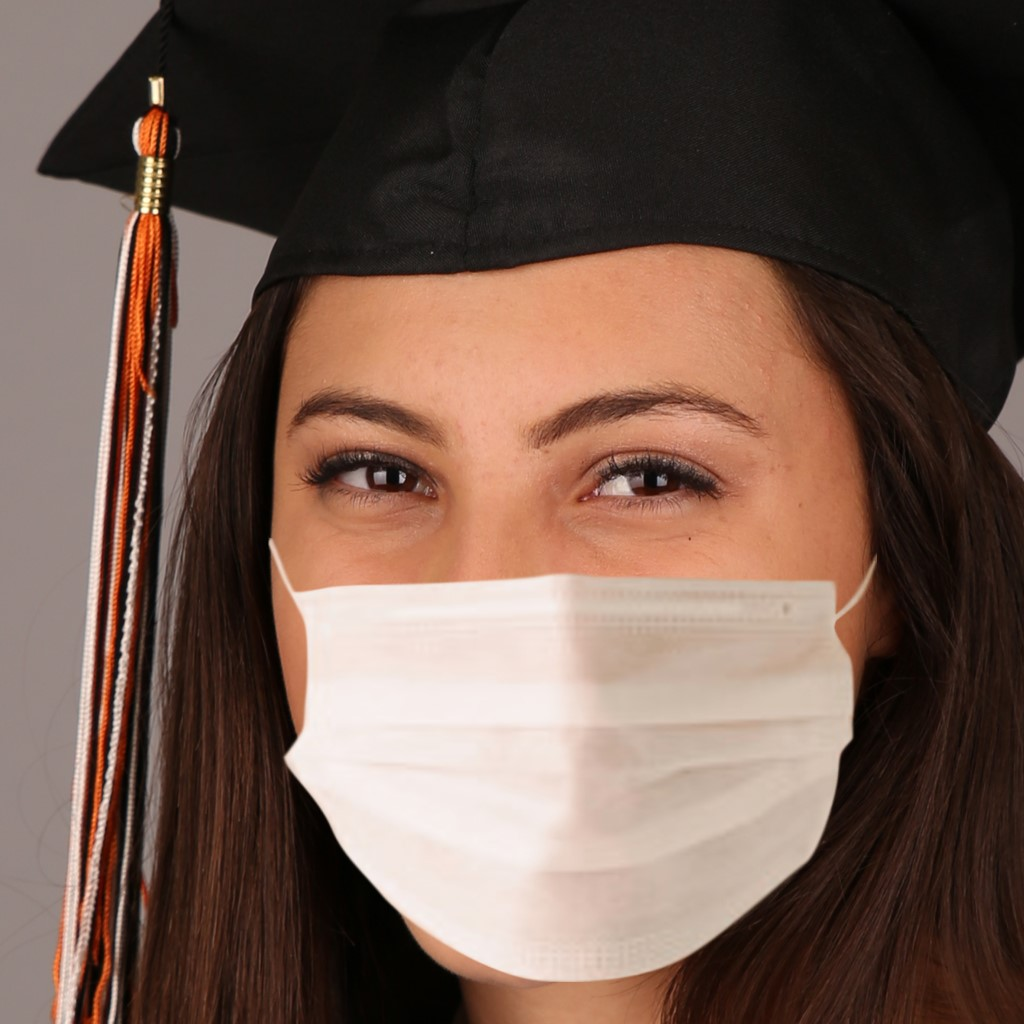con_mascara: (225, 190, 919, 964)
